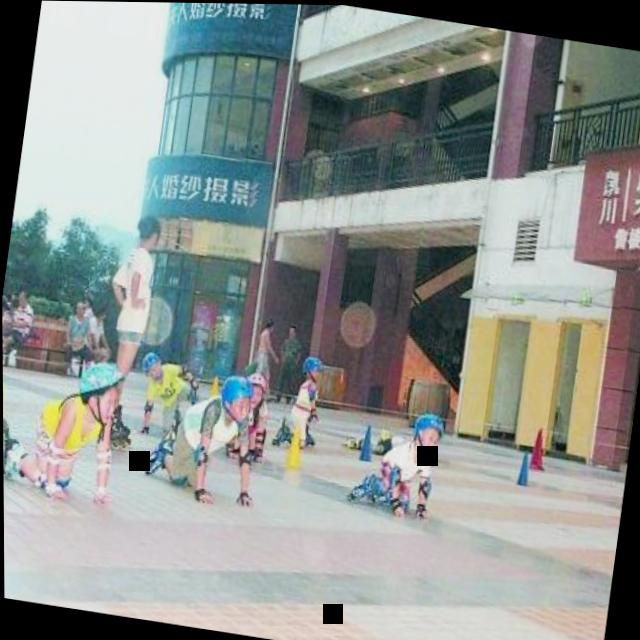Fall-Detected: (272, 339, 331, 453)
